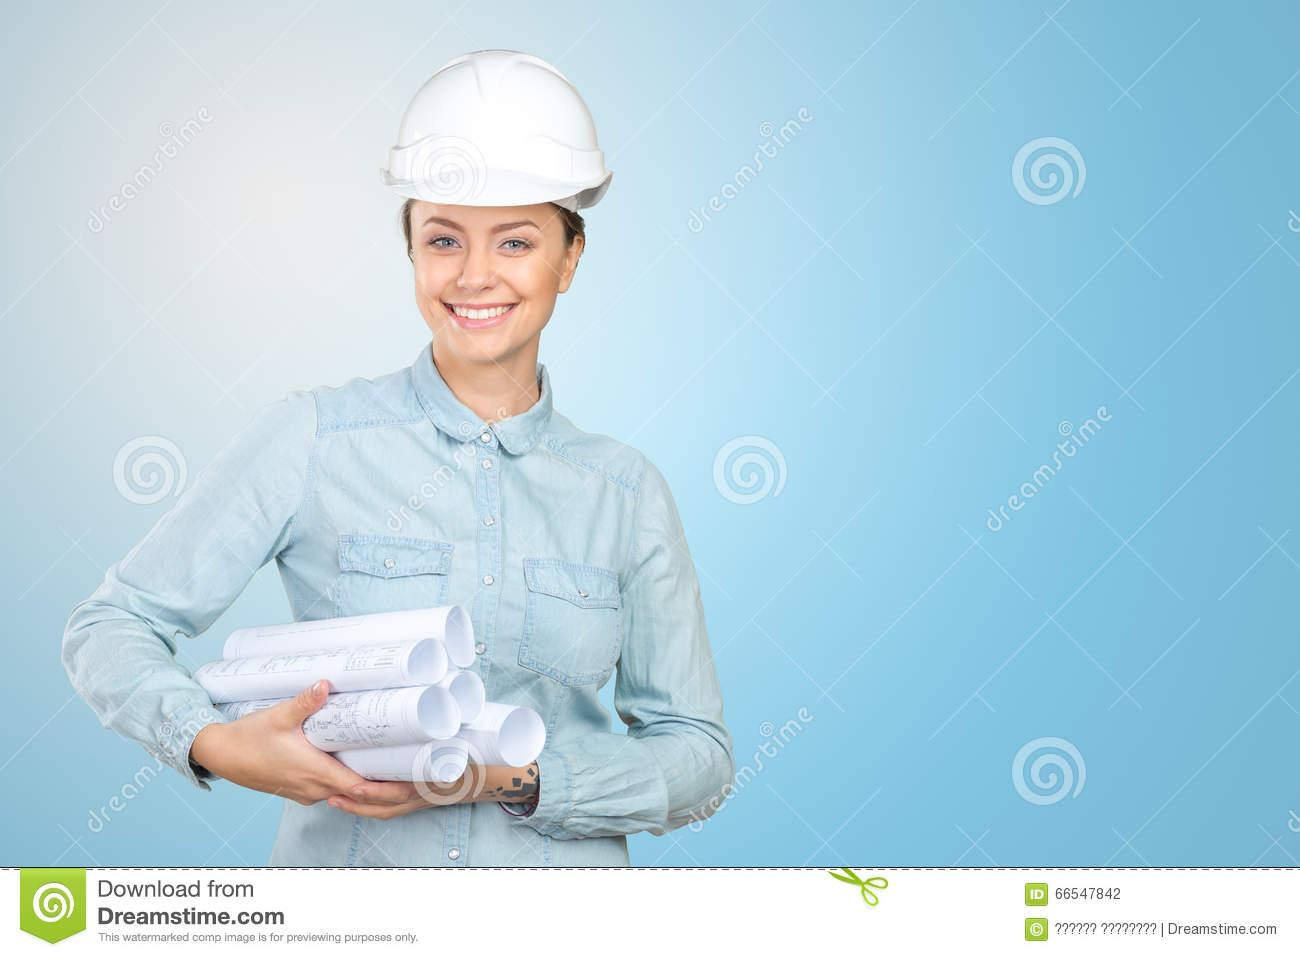helmet: (381, 45, 618, 213)
